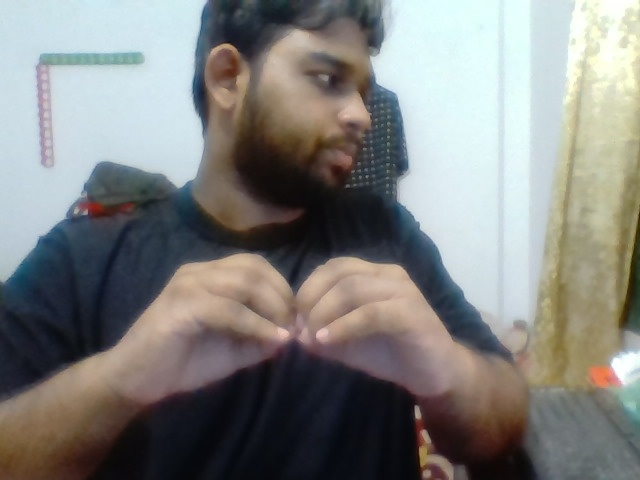B: (130, 245, 448, 424)
